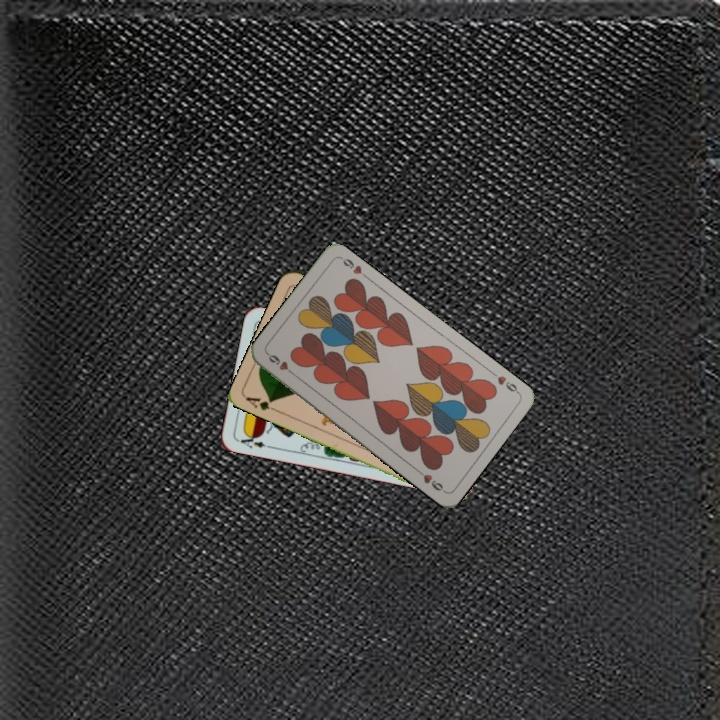EA: (234, 429, 275, 451)
GA: (242, 392, 281, 415)
H9: (264, 349, 298, 379), (487, 367, 522, 396)
